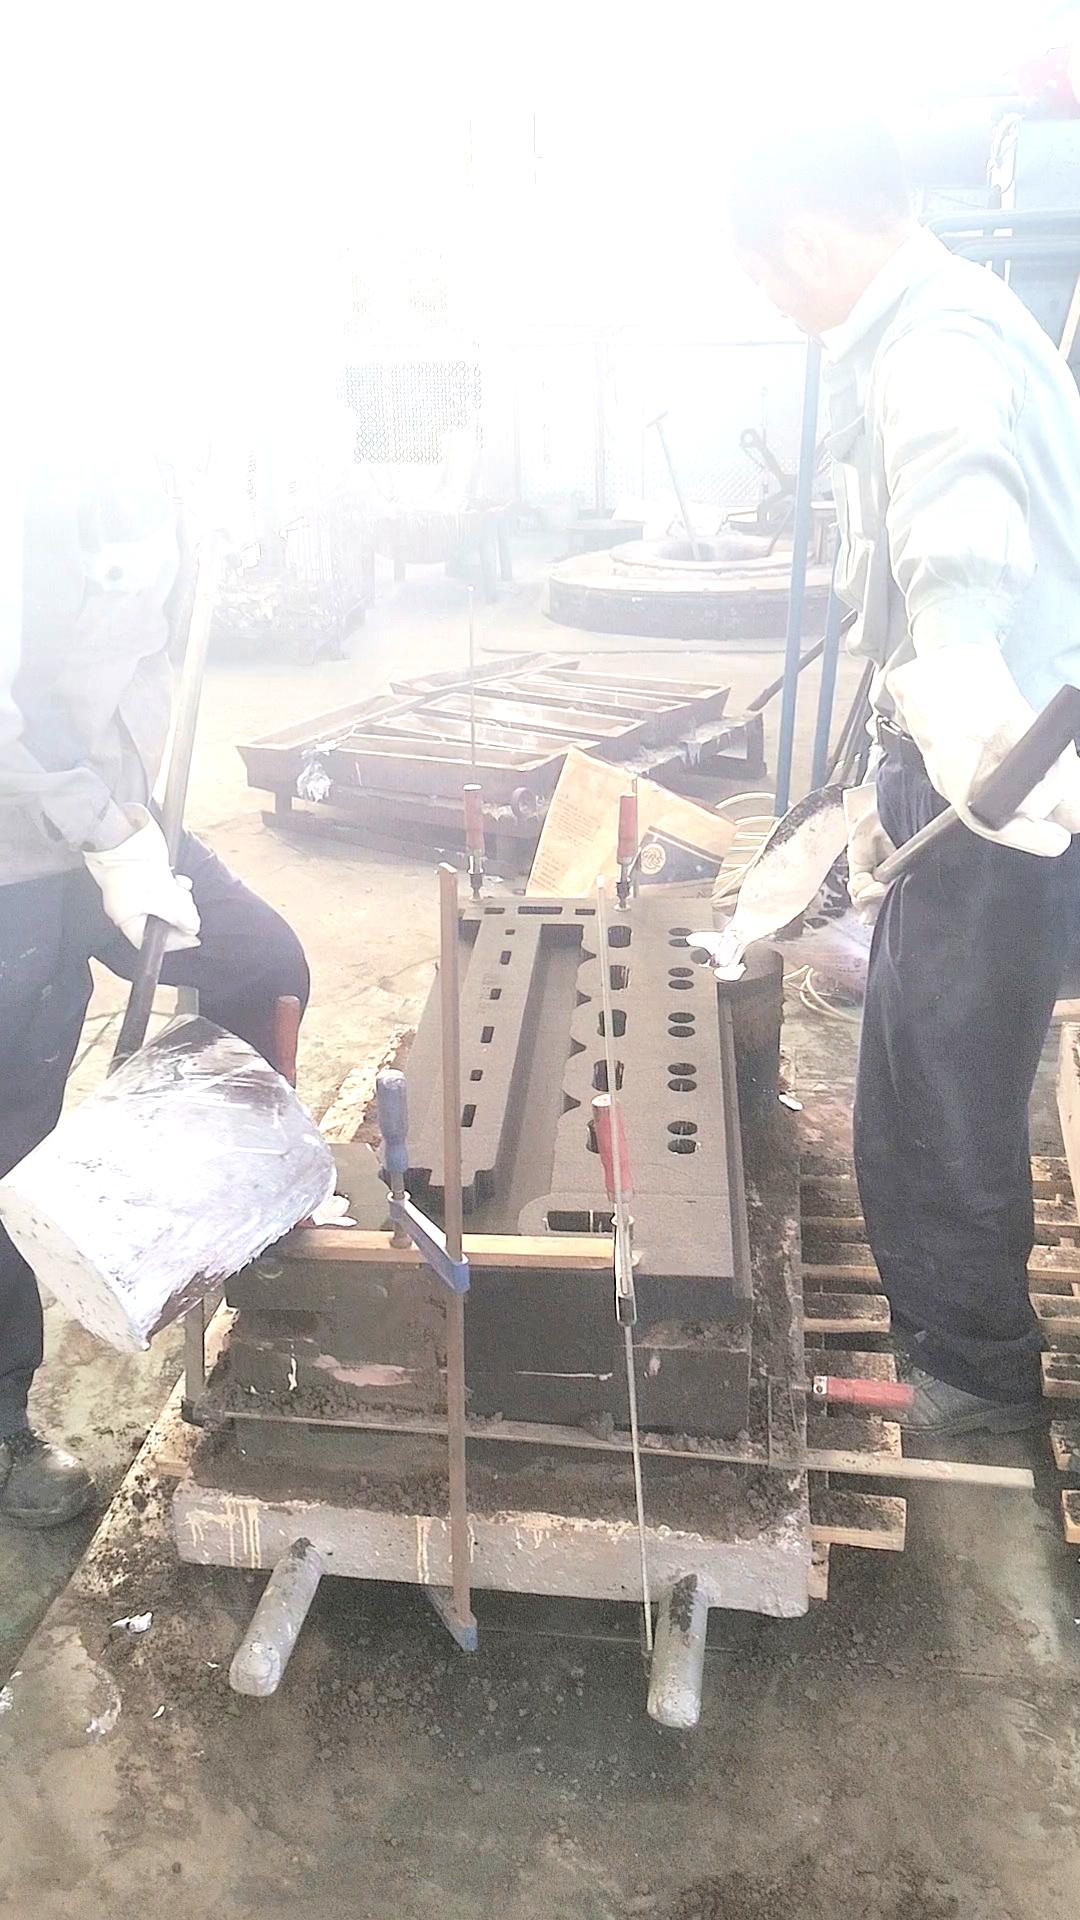pouring hole: (291, 1185, 349, 1224), (688, 945, 748, 968)
